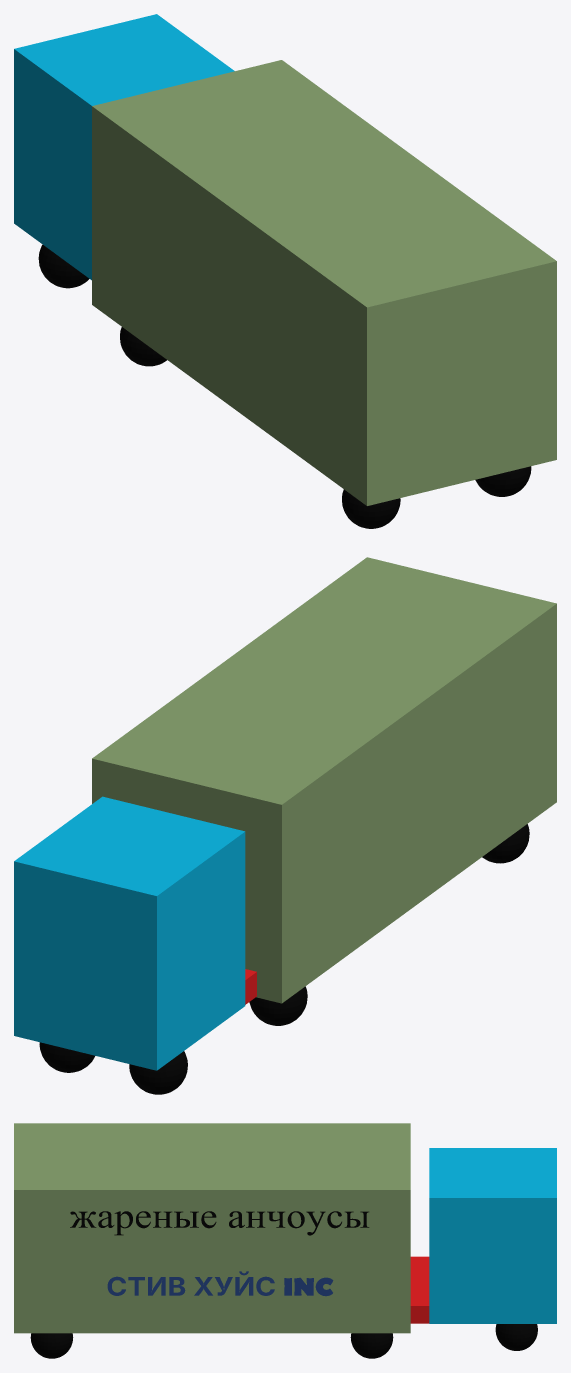
3 renders of one model, top to bottom at view 1: azimuth 30°, elevation 25°; view 2: azimuth 150°, elevation 25°; view 3: azimuth 270°, elevation 25°, orthographic. The views are drawn at different scales.
Parts seen in each view (by area): view 1: Cube, Cube.001, Sphere, Sphere.004, Sphere.001, Sphere.003; view 2: Cube, Cube.001, Sphere.004, Sphere.003, Sphere.005, Sphere; view 3: Cube, Cube.001, Text.001, Text, Cube.002, Sphere.005, Sphere.001, Sphere.002.
Part boxes in pixels (bbox=[...]): Cube: bbox=[92, 60, 556, 505]; Cube.001: bbox=[14, 14, 234, 280]; Sphere: bbox=[342, 489, 400, 528]; Sphere.004: bbox=[38, 244, 89, 288]; Sphere.001: bbox=[475, 466, 531, 496]; Sphere.003: bbox=[120, 327, 166, 366]; Cube: bbox=[92, 557, 556, 1003]; Cube.001: bbox=[14, 796, 245, 1070]; Sphere.004: bbox=[129, 1051, 187, 1094]; Sphere.003: bbox=[249, 986, 307, 1025]; Sphere.005: bbox=[39, 1042, 94, 1072]; Sphere: bbox=[482, 824, 529, 863]; Cube: bbox=[14, 1123, 410, 1333]; Cube.001: bbox=[429, 1148, 556, 1323]; Text.001: bbox=[107, 1271, 333, 1296]; Text: bbox=[70, 1211, 369, 1235]; Cube.002: bbox=[410, 1256, 429, 1323]; Sphere.005: bbox=[495, 1324, 537, 1350]; Sphere.001: bbox=[30, 1333, 73, 1358]; Sphere.002: bbox=[350, 1333, 393, 1358].
Size of the model in its own units: 189 by 231 by 642.
